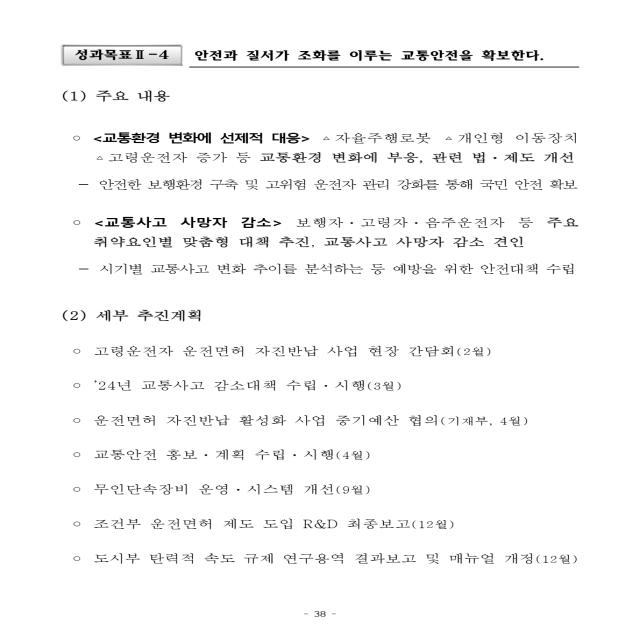pagenumber: (303, 610, 342, 622)
subtitle: (61, 306, 203, 325), (61, 87, 176, 108)
text: (66, 342, 583, 568), (68, 130, 584, 281)
title: (66, 46, 576, 65)
